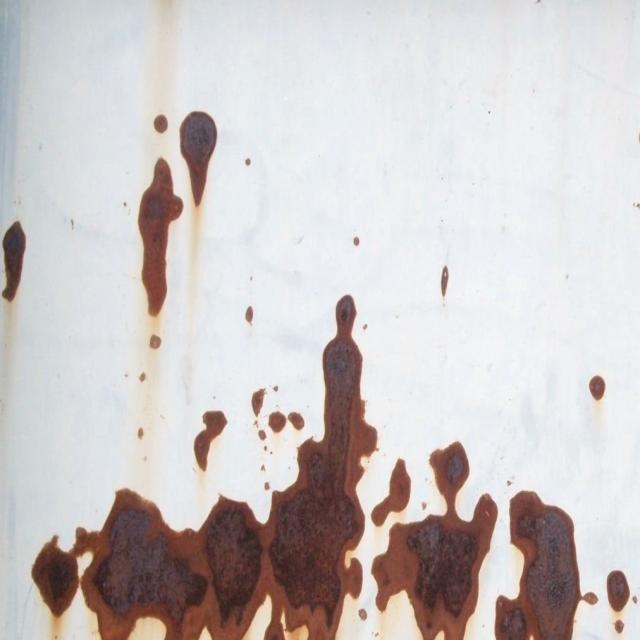Uniform Corrosion: (31, 295, 607, 639), (138, 157, 183, 318), (179, 111, 217, 208), (1, 220, 27, 302), (194, 411, 227, 471), (606, 570, 630, 611), (588, 375, 605, 401), (251, 388, 265, 416), (154, 114, 168, 133)
